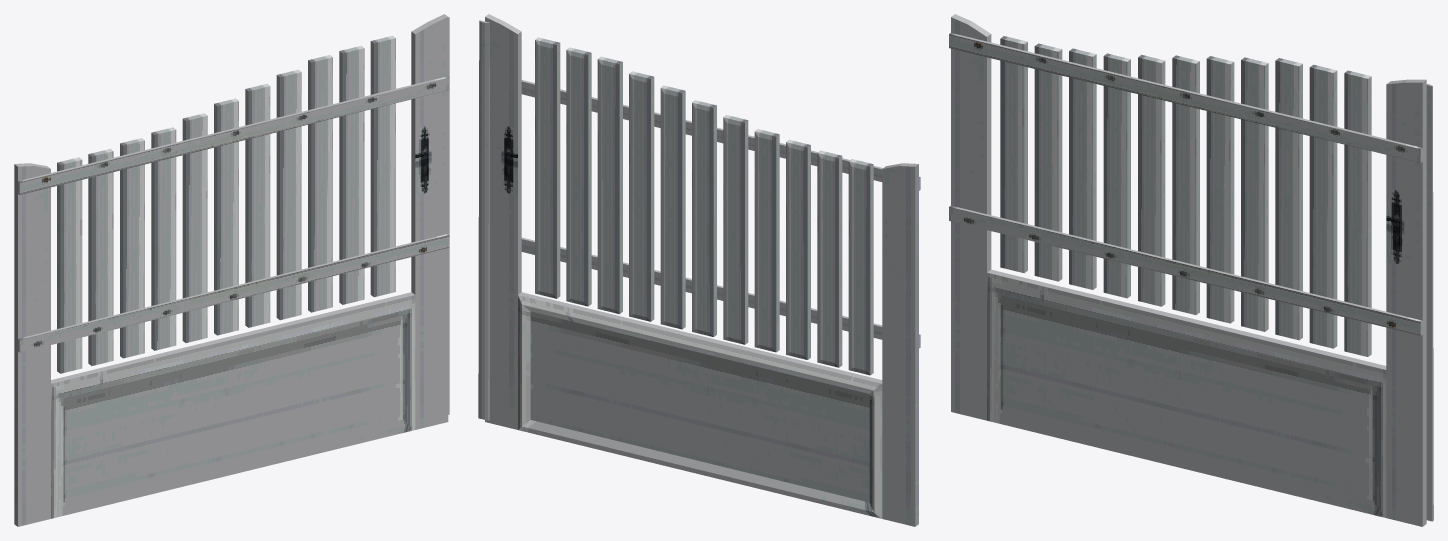
The model's file is plastic_gate_right.glb.
3 views of the same model, side by side, from view 1: azimuth 30°, elevation 25°; view 2: azimuth 150°, elevation 25°; view 3: azimuth 330°, elevation 25° (orthographic). The views are drawn at different scales.
Parts seen in each view (by area): view 1: plastic_gate_right; view 2: plastic_gate_right; view 3: plastic_gate_right.
Part boxes in pixels (x1,y1,x2,y2): plastic_gate_right: [14, 14, 449, 526]; plastic_gate_right: [478, 14, 920, 526]; plastic_gate_right: [949, 14, 1433, 526].
Bounding box in the file's own units: 2.53 × 2.25 × 0.0756.
Materials: 1 (1 with a texture image).
